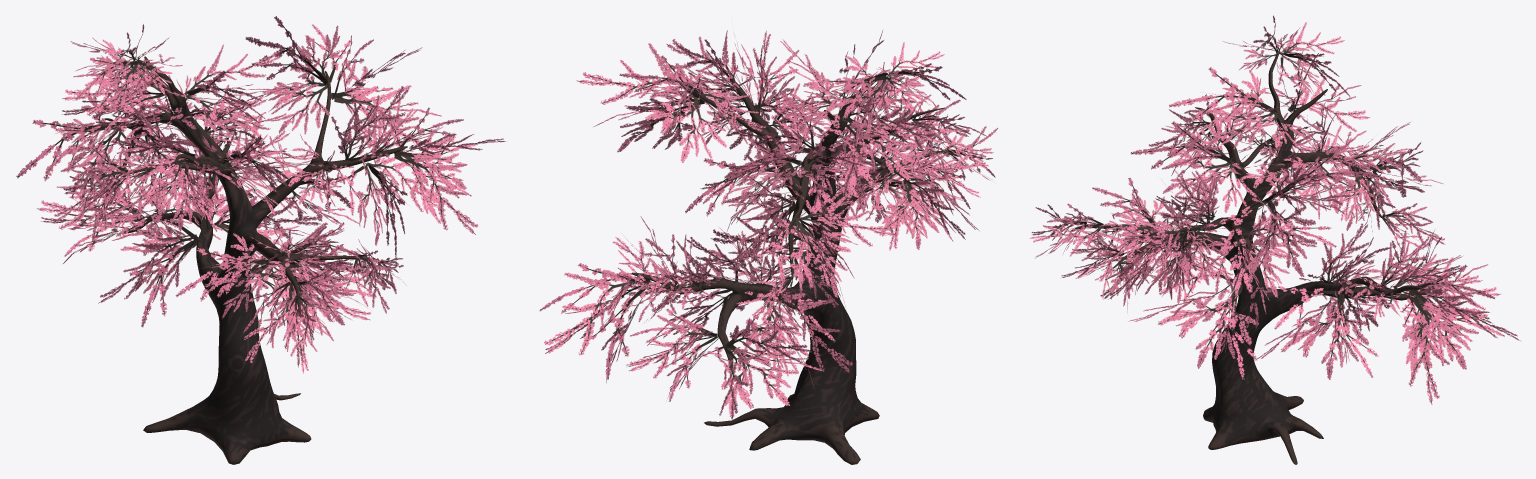
The model's file is sakura_tree-thic.glb.
3 renders of one model, left to right at view 1: azimuth 30°, elevation 25°; view 2: azimuth 150°, elevation 25°; view 3: azimuth 270°, elevation 25°, orthographic. The views are drawn at different scales.
Visible parts, largest first — view 1: treee_0, bush.001_2, bush.008_9, bush.011_17, bush.015_21, bush.021_27, bush.012_18, bush.009_15, bush.002_3, bush.006_7, bush.004_5, bush.018_22 (+28 smaller); view 2: treee_0, bush.004_5, bush.015_21, bush.017_24, bush_1, bush.002_3, bush.011_17, bush.008_9, bush.014_20, bush.007_8, bush.016_23, bush.019_25 (+28 smaller); view 3: treee_0, bush_1, bush.024_12, bush.019_25, bush.002_3, bush.018_22, bush.021_27, bush.025_28, bush.012_18, bush.001_2, bush.011_17, bush.014_20 (+28 smaller).
Boxes of the visible parts, <box> form: treee_0: <box>104,56,407,464</box>; bush.001_2: <box>394,107,505,234</box>; bush.008_9: <box>90,189,198,327</box>; bush.011_17: <box>233,16,350,134</box>; bush.015_21: <box>16,92,149,198</box>; bush.021_27: <box>161,44,282,137</box>; bush.012_18: <box>331,153,445,257</box>; bush.009_15: <box>175,233,303,318</box>; bush.002_3: <box>331,35,442,164</box>; bush.006_7: <box>126,158,219,231</box>; bush.004_5: <box>62,53,168,151</box>; bush.018_22: <box>189,134,318,215</box>; treee_0: <box>631,72,958,464</box>; bush.004_5: <box>816,80,943,203</box>; bush.015_21: <box>755,189,896,306</box>; bush.017_24: <box>694,306,823,419</box>; bush_1: <box>539,263,651,382</box>; bush.002_3: <box>577,43,705,152</box>; bush.011_17: <box>629,56,765,162</box>; bush.008_9: <box>744,281,852,387</box>; bush.014_20: <box>811,55,924,138</box>; bush.007_8: <box>879,176,965,250</box>; bush.016_23: <box>626,308,718,401</box>; bush.019_25: <box>626,234,748,345</box>; treee_0: <box>1070,52,1421,464</box>; bush_1: <box>1402,264,1520,404</box>; bush.024_12: <box>1129,256,1271,379</box>; bush.019_25: <box>1255,285,1378,379</box>; bush.002_3: <box>1206,174,1336,296</box>; bush.018_22: <box>1130,113,1256,212</box>; bush.021_27: <box>1169,67,1305,149</box>; bush.025_28: <box>1203,209,1316,313</box>; bush.012_18: <box>1118,200,1224,296</box>; bush.001_2: <box>1107,211,1199,299</box>; bush.011_17: <box>1250,146,1379,214</box>; bush.014_20: <box>1274,22,1350,96</box>.
Size of the model in its own units: 2.38 by 2.43 by 3.01.
4 materials, 4 textured.
